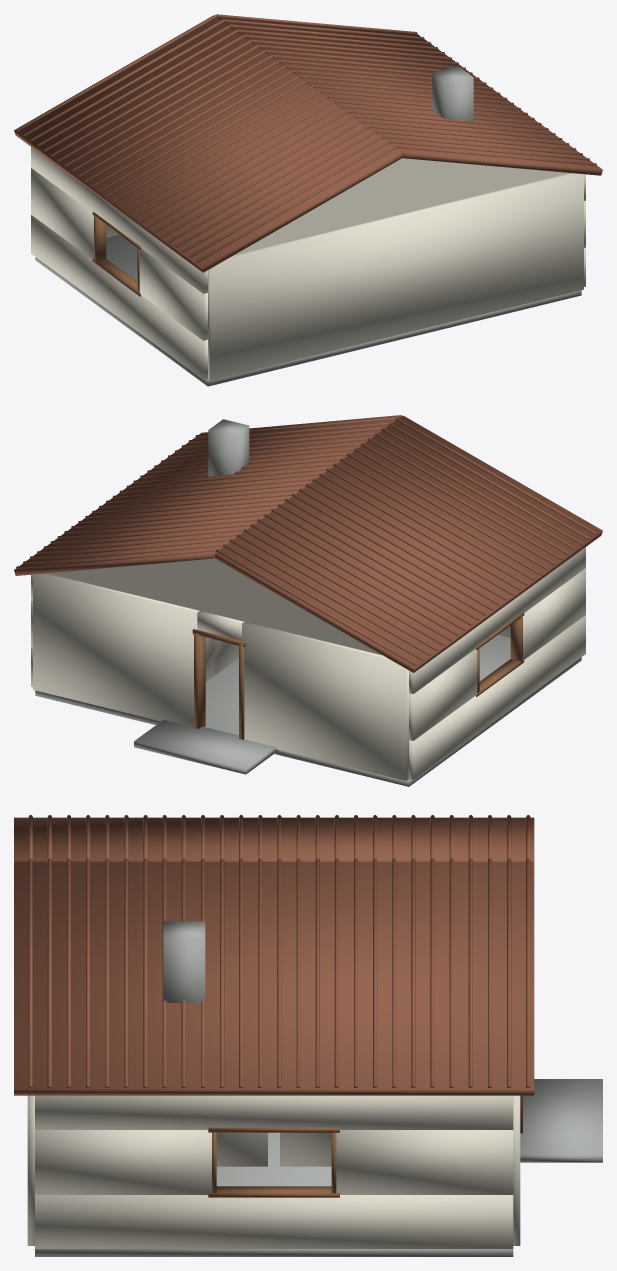
The model's file is coastal_house_v1.glb.
The picture shows the model from 3 angles, top to bottom: view 1: azimuth 30°, elevation 25°; view 2: azimuth 150°, elevation 25°; view 3: azimuth 270°, elevation 25°; orthographic projection. The views are drawn at different scales.
Parts seen in each view (by area): view 1: SM_coastal_house_v1; view 2: SM_coastal_house_v1; view 3: SM_coastal_house_v1.
Part boxes in pixels (x1=…): SM_coastal_house_v1: x1=14, y1=14, x2=602, y2=386; SM_coastal_house_v1: x1=14, y1=415, x2=602, y2=786; SM_coastal_house_v1: x1=14, y1=815, x2=602, y2=1256.
Bounding box in the file's own units: 10.75 × 5.1 × 9.85.
